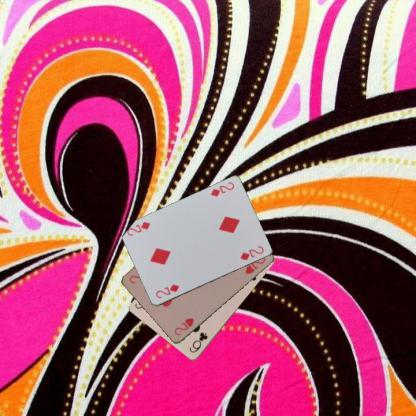2d: (153, 282, 180, 300), (208, 180, 235, 198)
2h: (172, 315, 195, 337)
6c: (187, 330, 209, 354)
